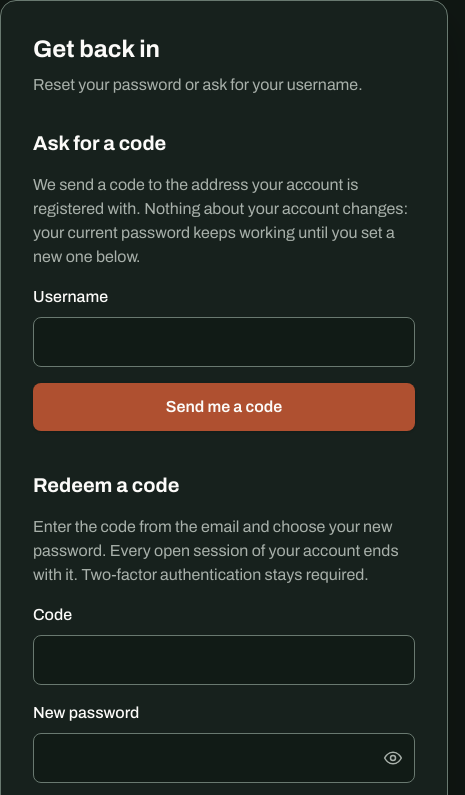
Scenario: AccountRecoveryView › given a member who forgot their password, when they name themselves, then a new one is asked for
Type "doe.jane" into the field with test id "recovery-username". click: (224, 342)
box: [33,317,415,367]
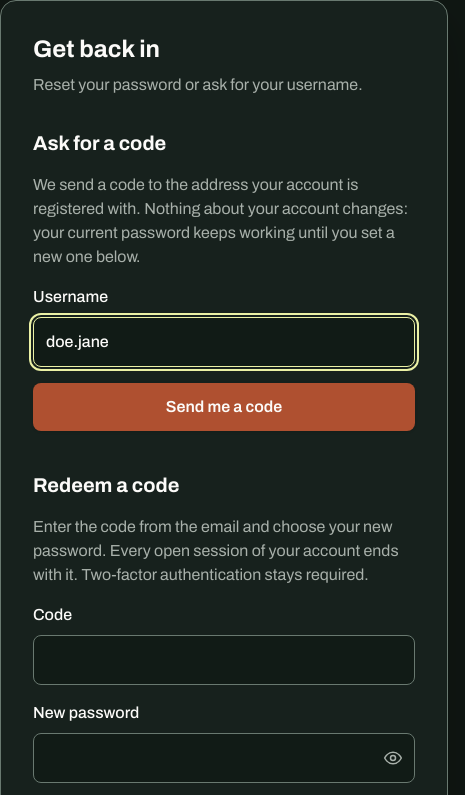
Click the button with test id "recovery-password-submit". click: (224, 407)
box: [33,383,415,431]
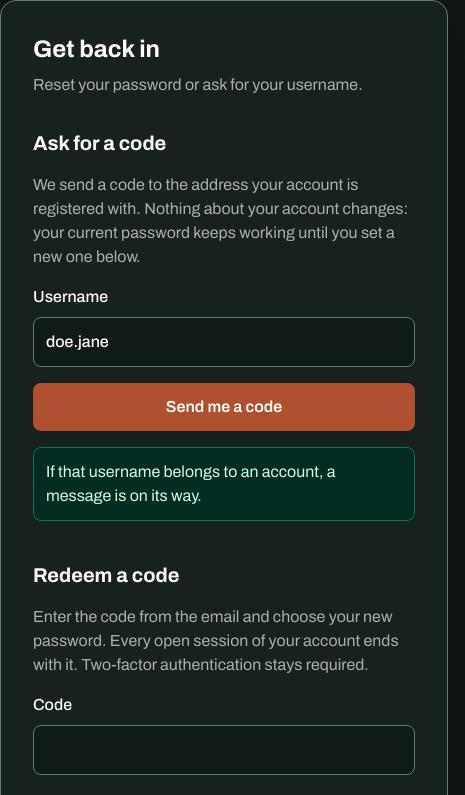
Expected: the message with test id "recovery-sent" reads "If that username belongs to an account, a message is on its way.", [46,463,336,504]
